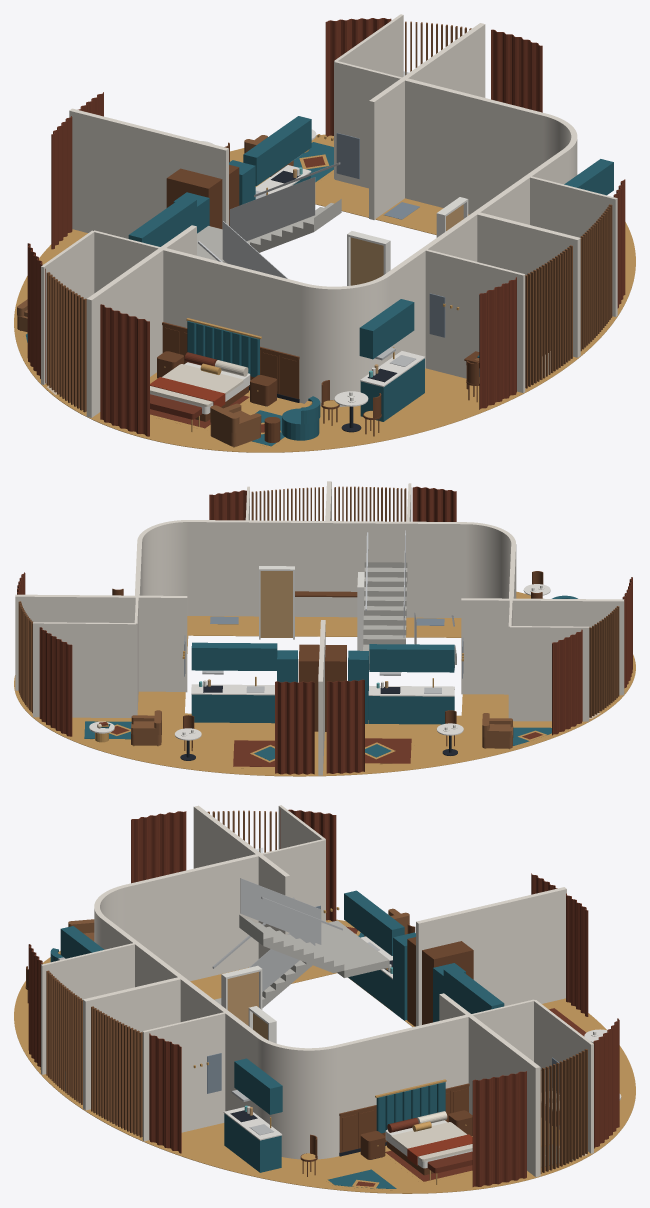
3 views of the same model, one above another, from view 1: azimuth 30°, elevation 25°; view 2: azimuth 150°, elevation 25°; view 3: azimuth 270°, elevation 25° (orthographic). The views are drawn at different scales.
Visible parts, largest first — view 1: Muros, Mobiliario, Elementos genéricos, Pisos, Carpintería, Barandales, Puertas, Escaleras, Equipo especial; view 2: Muros, Mobiliario, Pisos, Carpintería, Elementos genéricos, Escaleras, Puertas, Equipo especial, Barandales; view 3: Muros, Mobiliario, Elementos genéricos, Carpintería, Pisos, Escaleras, Barandales, Puertas, Equipo especial.
Part boxes in pixels (x1=…): Muros: x1=41, y1=14, x2=617, y2=417; Mobiliario: x1=17, y1=18, x2=625, y2=447; Elementos genéricos: x1=46, y1=21, x2=612, y2=412; Pisos: x1=14, y1=134, x2=635, y2=452; Carpintería: x1=128, y1=116, x2=613, y2=421; Barandales: x1=198, y1=162, x2=340, y2=278; Puertas: x1=347, y1=197, x2=468, y2=285; Escaleras: x1=197, y1=199, x2=341, y2=263; Equipo especial: x1=173, y1=160, x2=255, y2=233; Muros: x1=15, y1=481, x2=624, y2=775; Mobiliario: x1=17, y1=486, x2=632, y2=774; Pisos: x1=14, y1=591, x2=635, y2=776; Carpintería: x1=191, y1=642, x2=454, y2=731; Elementos genéricos: x1=18, y1=486, x2=619, y2=717; Escaleras: x1=363, y1=562, x2=456, y2=670; Puertas: x1=259, y1=566, x2=364, y2=650; Equipo especial: x1=277, y1=650, x2=368, y2=723; Barandales: x1=365, y1=530, x2=454, y2=644; Muros: x1=41, y1=805, x2=593, y2=1176; Mobiliario: x1=25, y1=809, x2=621, y2=1190; Elementos genéricos: x1=46, y1=810, x2=587, y2=1173; Carpintería: x1=58, y1=890, x2=559, y2=1172; Pisos: x1=14, y1=919, x2=635, y2=1193; Escaleras: x1=214, y1=915, x2=389, y2=1008; Barandales: x1=212, y1=878, x2=342, y2=991; Puertas: x1=221, y1=965, x2=276, y2=1043; Equipo especial: x1=393, y1=932, x2=465, y2=1022.
Size of the model in its own units: 16.1 by 4.03 by 15.1.
